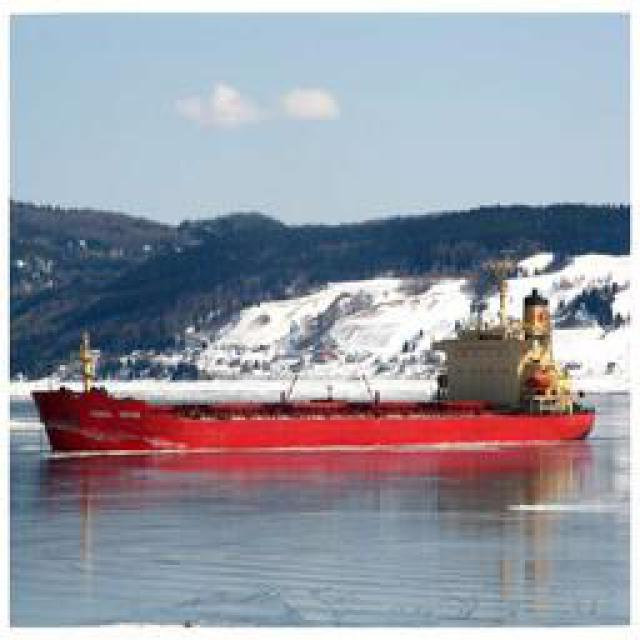Ship: (42, 367, 615, 450)
